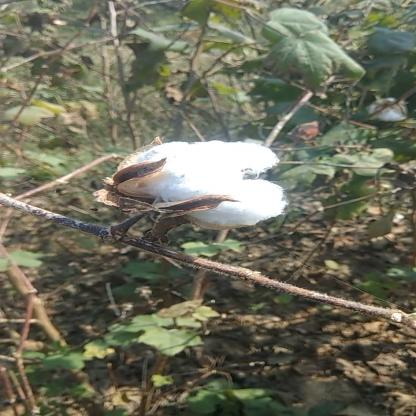cotton_ready: (114, 119, 288, 280)
